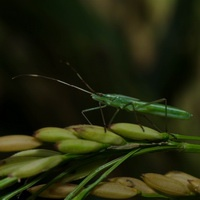insect: (12, 74, 176, 140)
